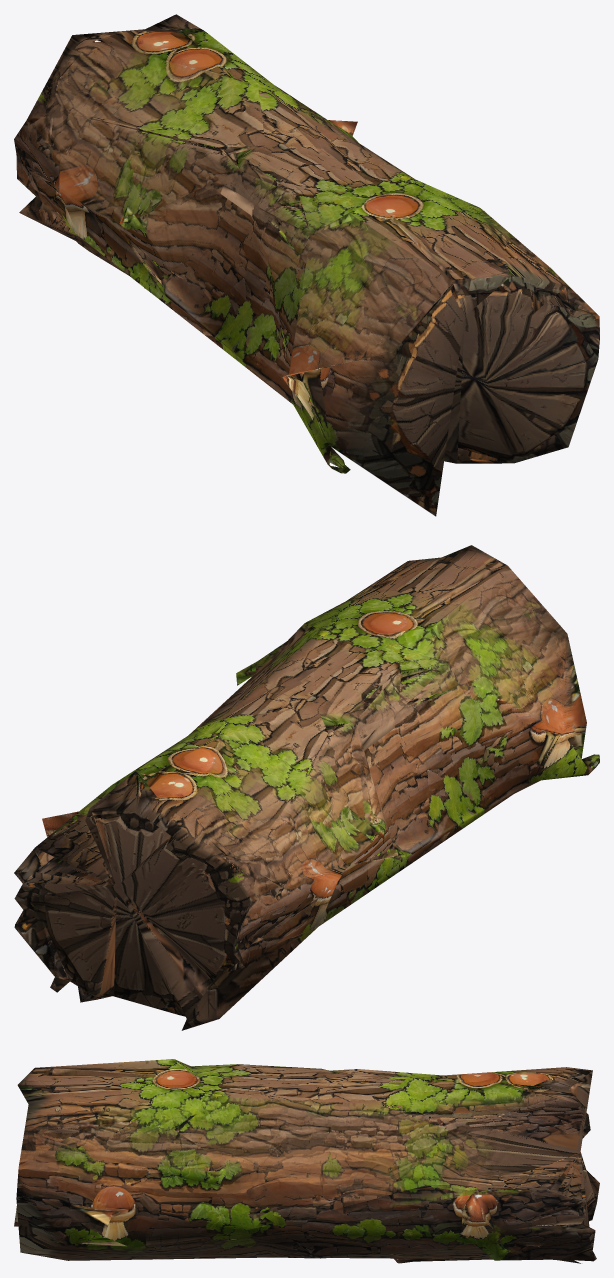
The model's file is Crop_Mushroom_Growing.fbx.
The picture shows the model from 3 angles, top to bottom: view 1: azimuth 30°, elevation 25°; view 2: azimuth 150°, elevation 25°; view 3: azimuth 270°, elevation 25°; orthographic projection. The views are drawn at different scales.
Parts seen in each view (by area): view 1: texture_mapping; view 2: texture_mapping; view 3: texture_mapping.
Boxes of the visible parts, x1,y1,x2,y2 form: texture_mapping: (14,14,599,516); texture_mapping: (14,545,599,1030); texture_mapping: (14,1059,599,1263).
Bounding box in the file's own units: 0.4663 × 0.9612 × 0.3184.
Materials: 1 (1 with a texture image).
